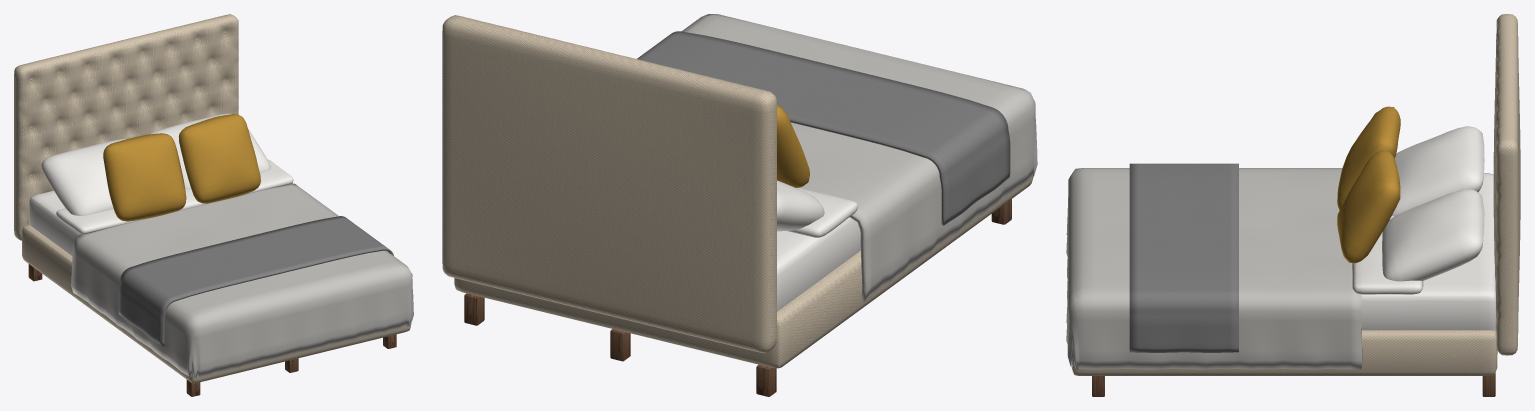
Rendered from cama_capitone_135.glb.
3 views of the same model, side by side, from view 1: azimuth 30°, elevation 25°; view 2: azimuth 150°, elevation 25°; view 3: azimuth 270°, elevation 25° (orthographic). The views are drawn at different scales.
Parts seen in each view (by area): view 1: cama_capitone_135; view 2: cama_capitone_135; view 3: cama_capitone_135.
Part boxes in pixels (left/top/right/bottom): cama_capitone_135: left=14, top=14, right=413, bottom=396; cama_capitone_135: left=442, top=14, right=1037, bottom=396; cama_capitone_135: left=1066, top=14, right=1520, bottom=396.
Size of the model in its own units: 1.53 by 1.31 by 2.08.
Materials: 6 (6 with a texture image).
